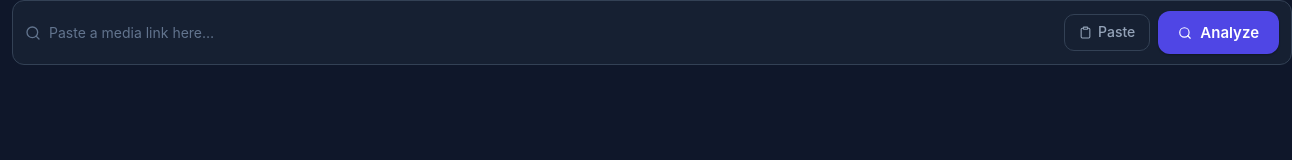
Test: UrlInput — empty submission › shows a validation error when submitted empty
Step 1. Click the button "Analyze" → [1219, 33], box 1158,11 -> 1279,54
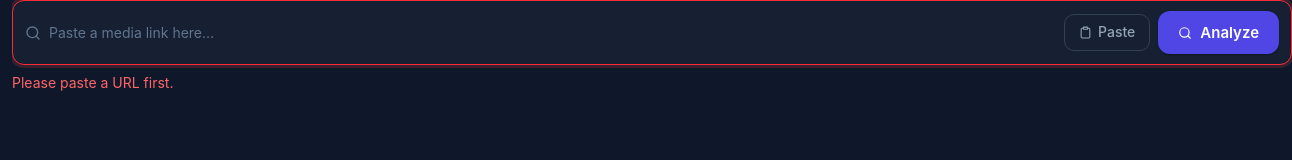
Expected: the message shows "paste a URL", 12,74 -> 173,91
